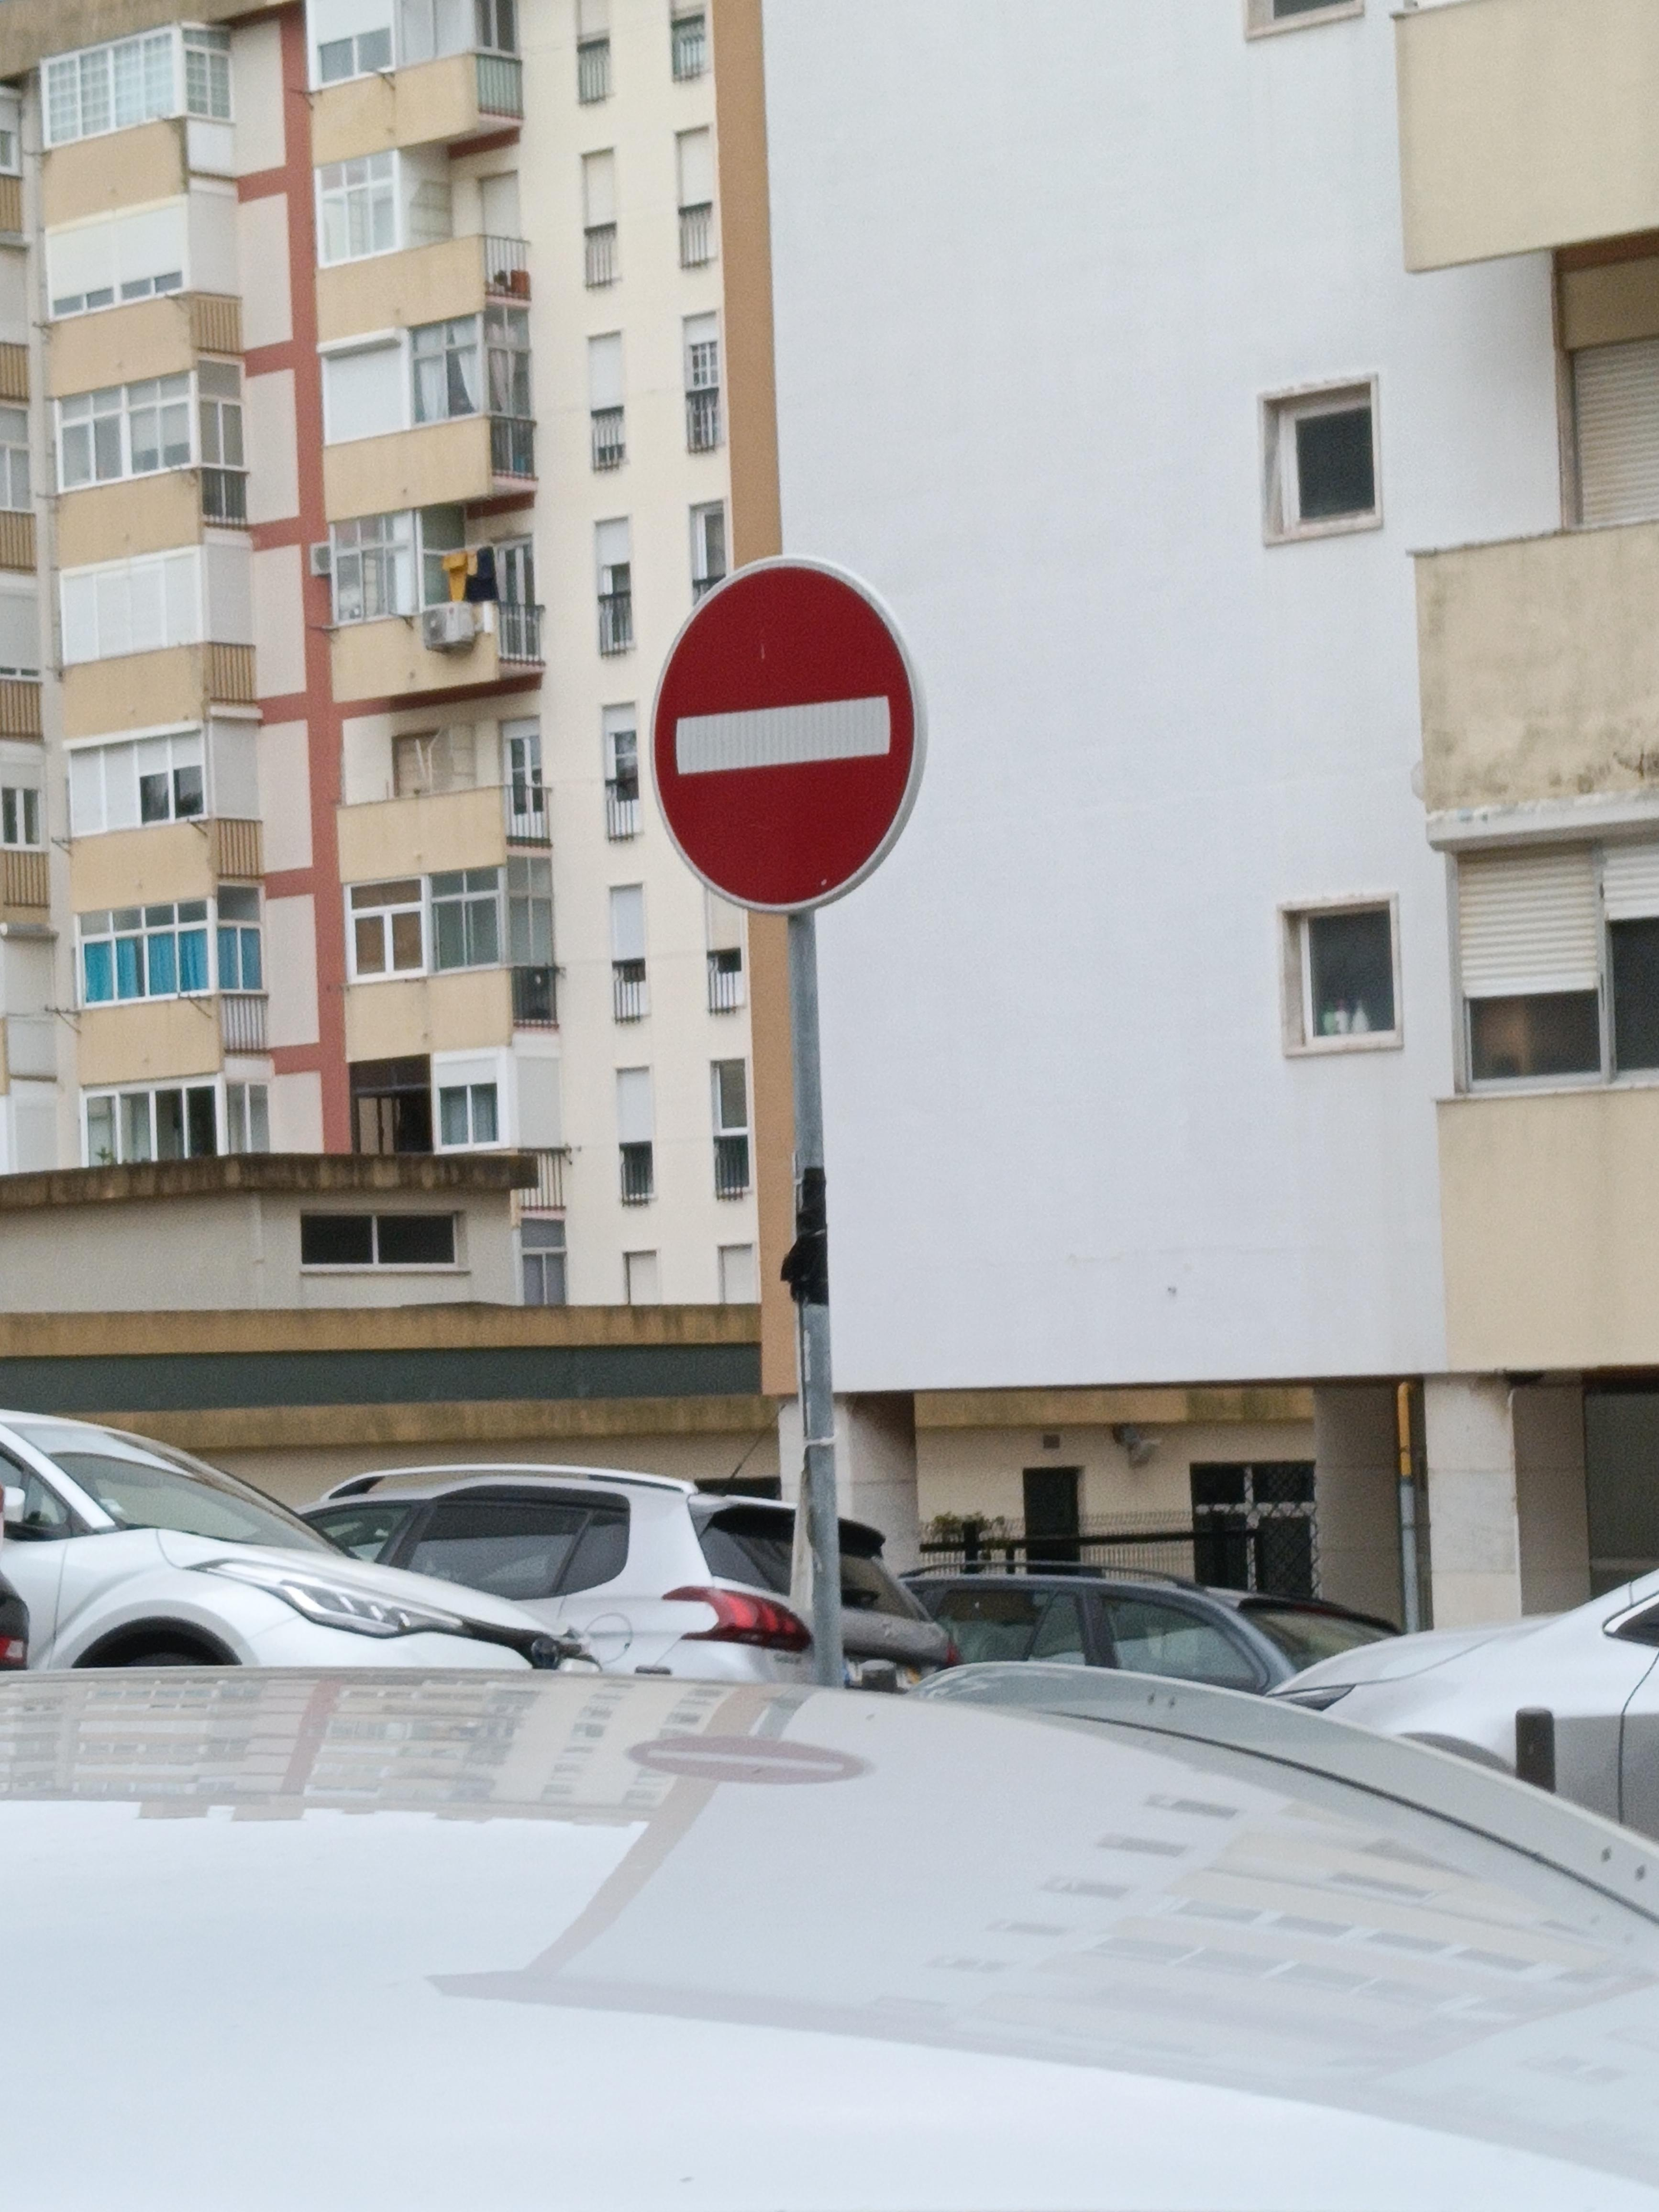Sentido proibido: (593, 528, 986, 956)
